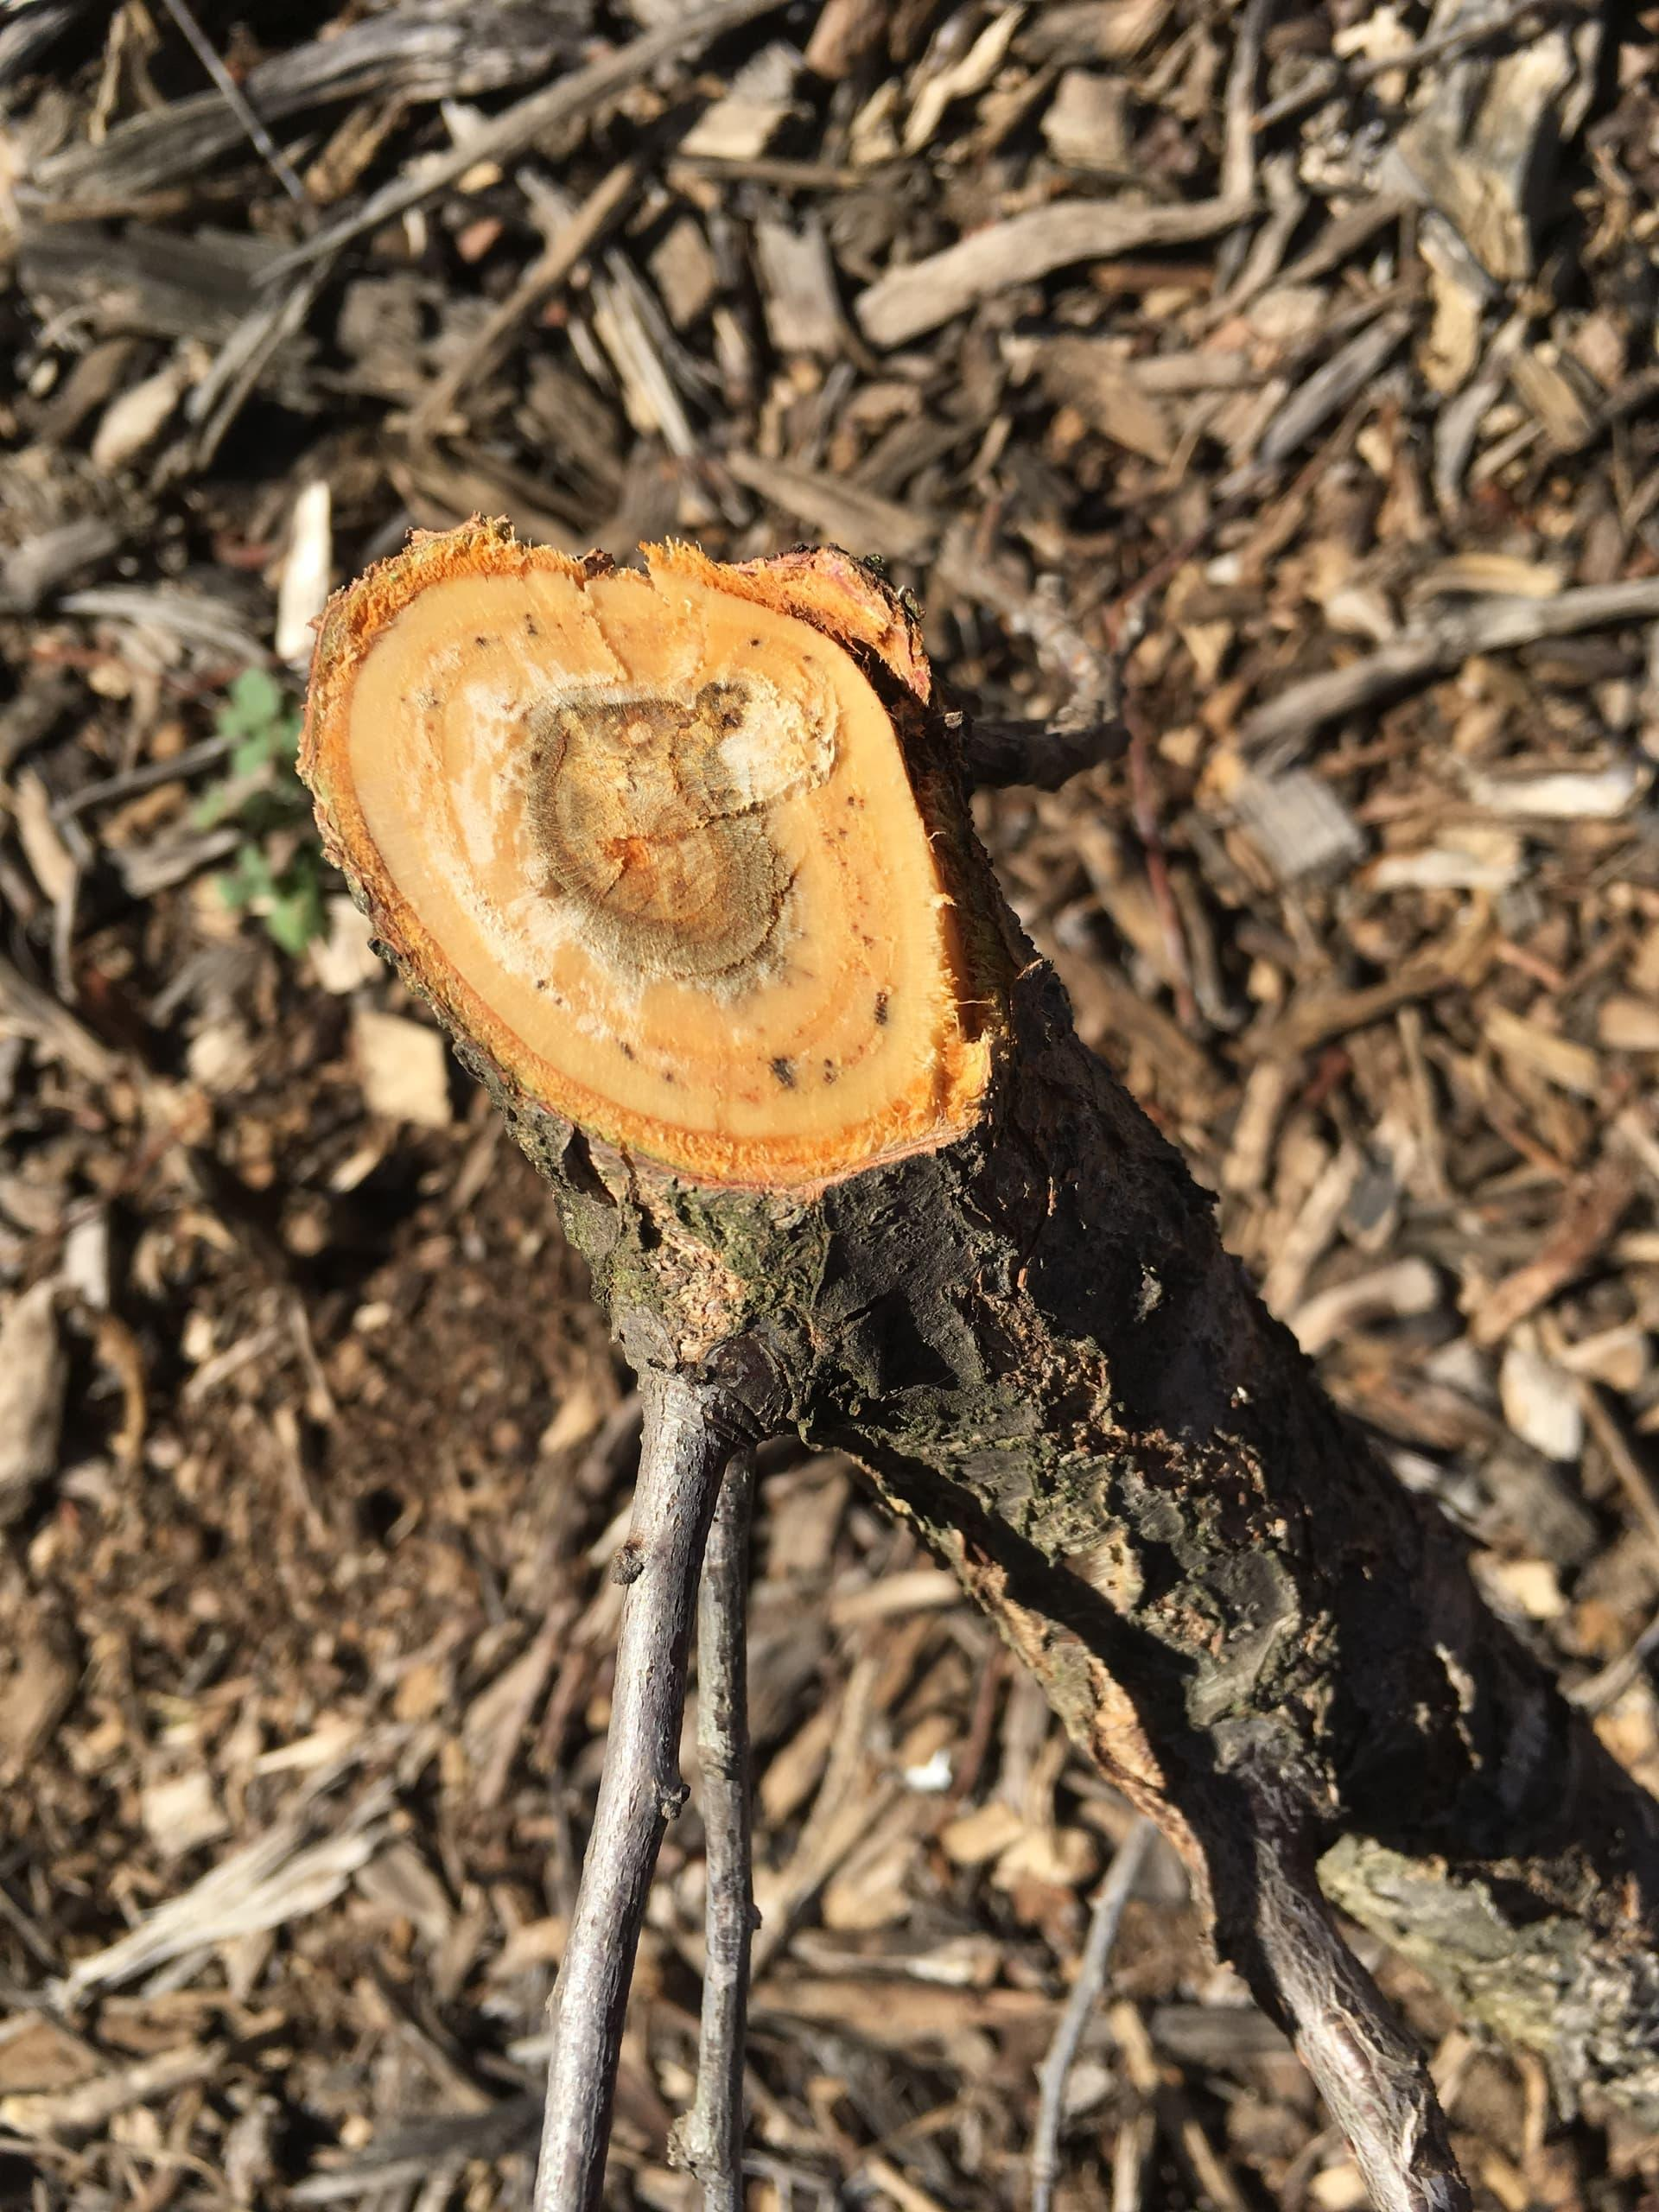Verticillium wilt: (526, 679, 786, 981)
